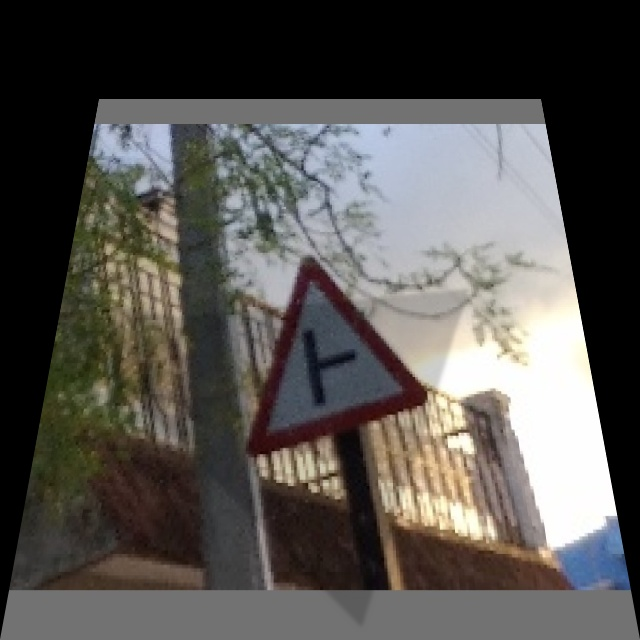Side_Road_Right: (235, 255, 418, 436)
